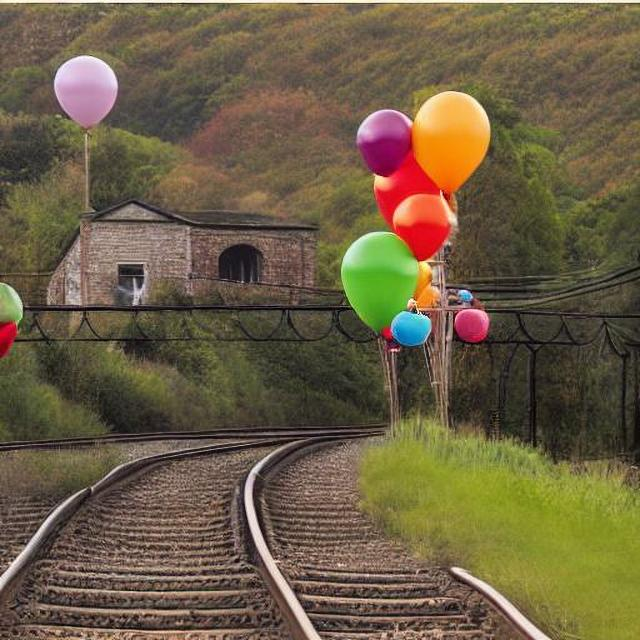balloon: (349, 88, 492, 250), (333, 226, 431, 344), (49, 52, 119, 126), (450, 299, 490, 343), (0, 282, 24, 343)
